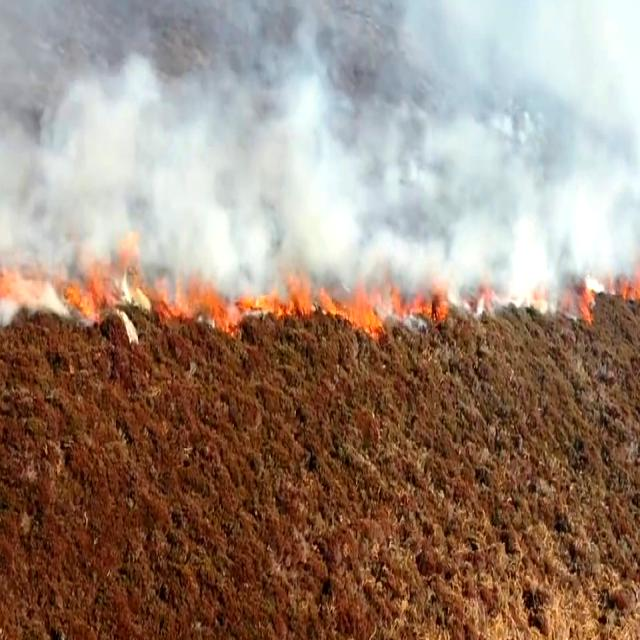fire: (121, 237, 282, 337), (3, 232, 117, 328), (280, 262, 424, 325)
smoke: (0, 0, 640, 216)
